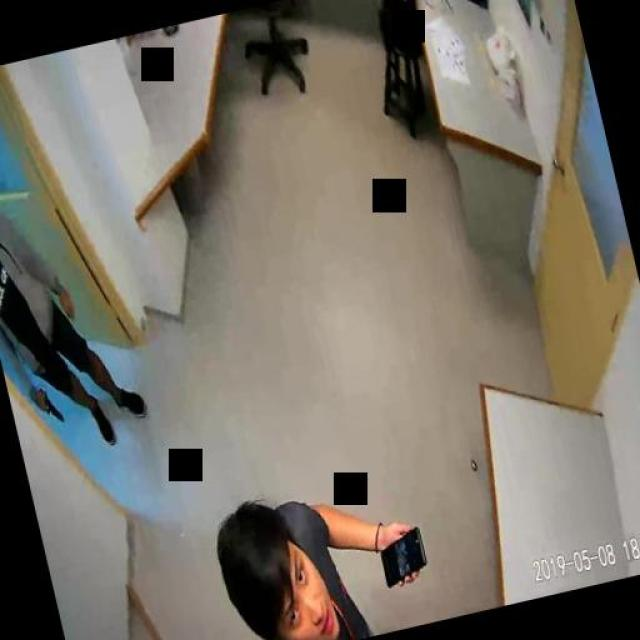gun: (35, 381, 64, 424)
